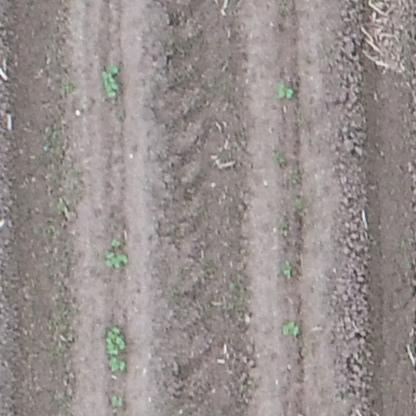vc: (102, 323, 130, 373), (100, 61, 121, 102), (280, 315, 303, 341), (102, 250, 129, 270), (276, 79, 296, 102), (108, 393, 126, 407), (109, 237, 124, 248)
